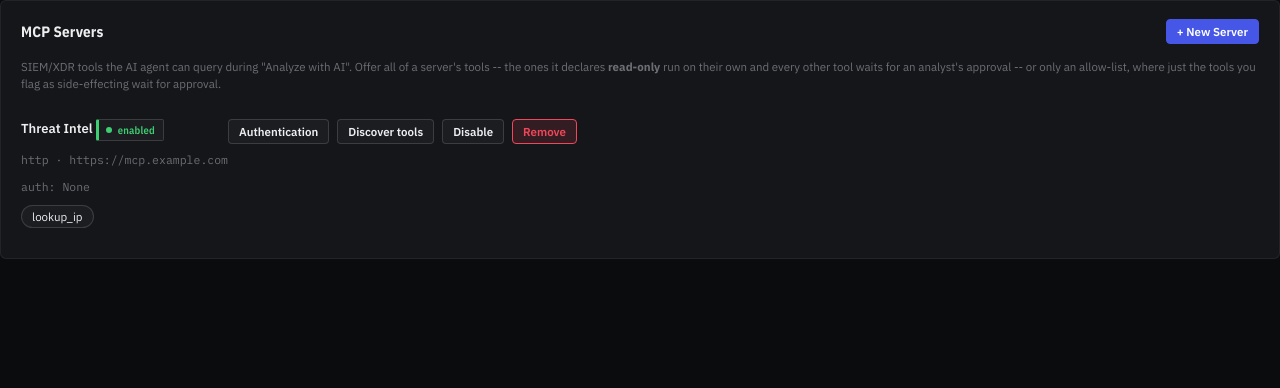
MCPServersPanel › a discover-tools failure shows the error banner
The width and height of the screenshot is (1280, 388).
Click the button "Discover tools".
click(386, 131)  # box [337,118,434,144]
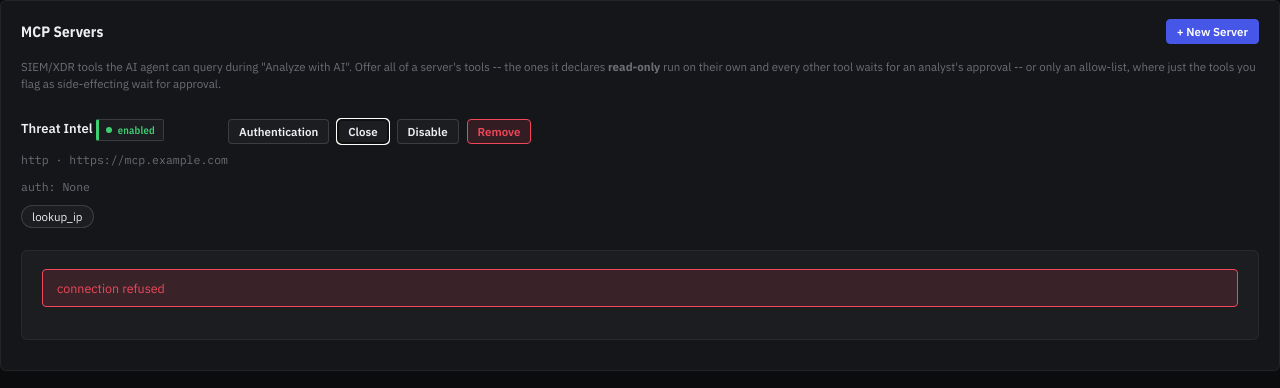
Check: the text "connection refused" is shown, box [42,269,1238,307]
